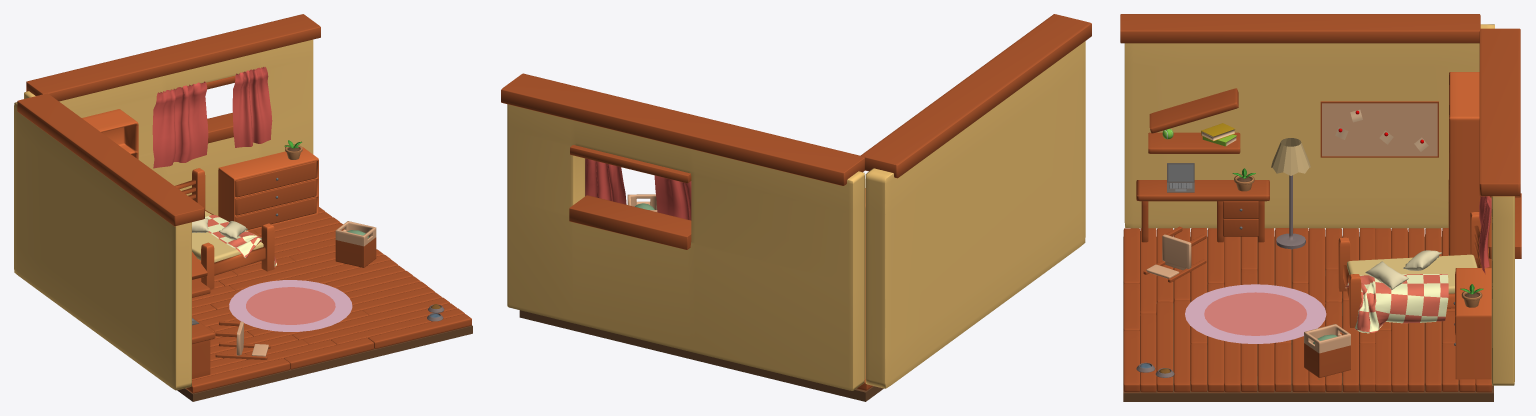
File: Room 2.fbx
3 renders of one model, left to right at view 1: azimuth 30°, elevation 25°; view 2: azimuth 150°, elevation 25°; view 3: azimuth 270°, elevation 25°, orthographic. The views are drawn at different scales.
Visible parts, largest first — view 1: Cube.043, Cube.101, Cube.115, Cube.106, Cube.107, Circle.002, Plane.047, Cube.109, Plane.027, Cube.041, Cube.074, Cube.119 (+9 smaller); view 2: Cube.115, Cube.043, Cube.106, Cube.107, Cube.121, Cube.041, Plane.027, Cube.132, Plane.047; view 3: Cube.043, Cube.101, Cube.107, Cube.106, Circle.002, Cube.117, Cube.108, Cube.041, Cube.115, Plane.028, Cube.109, Cube.087 (+16 smaller).
Part boxes in pixels (x1=…): Cube.043: x1=14, y1=102, x2=191, y2=390; Cube.101: x1=186, y1=207, x2=471, y2=393; Cube.115: x1=24, y1=39, x2=313, y2=215; Cube.106: x1=26, y1=14, x2=320, y2=101; Cube.107: x1=17, y1=93, x2=204, y2=226; Circle.002: x1=229, y1=280, x2=352, y2=331; Plane.047: x1=152, y1=81, x2=208, y2=168; Cube.109: x1=218, y1=147, x2=318, y2=231; Plane.027: x1=232, y1=67, x2=272, y2=147; Cube.041: x1=177, y1=325, x2=472, y2=401; Cube.074: x1=175, y1=168, x2=274, y2=289; Cube.119: x1=335, y1=221, x2=376, y2=267; Cube.115: x1=507, y1=104, x2=864, y2=390; Cube.043: x1=865, y1=41, x2=1085, y2=388; Cube.106: x1=501, y1=73, x2=864, y2=185; Cube.107: x1=860, y1=14, x2=1091, y2=178; Cube.121: x1=569, y1=195, x2=691, y2=249; Cube.041: x1=519, y1=310, x2=883, y2=401; Plane.027: x1=585, y1=158, x2=626, y2=204; Cube.132: x1=570, y1=145, x2=691, y2=183; Plane.047: x1=654, y1=175, x2=691, y2=220; Cube.043: x1=1124, y1=24, x2=1494, y2=228; Cube.101: x1=1123, y1=228, x2=1492, y2=392; Cube.107: x1=1120, y1=14, x2=1480, y2=43; Cube.106: x1=1479, y1=28, x2=1520, y2=196; Circle.002: x1=1185, y1=284, x2=1326, y2=343; Cube.117: x1=1320, y1=101, x2=1438, y2=157; Cube.108: x1=1448, y1=72, x2=1488, y2=255; Cube.041: x1=1123, y1=237, x2=1493, y2=401; Cube.115: x1=1491, y1=196, x2=1514, y2=385; Plane.028: x1=1345, y1=274, x2=1448, y2=333; Cube.109: x1=1455, y1=268, x2=1491, y2=380; Cube.087: x1=1136, y1=180, x2=1269, y2=242.
Bounding box in the file's own units: 2019 × 1220 × 2015.
